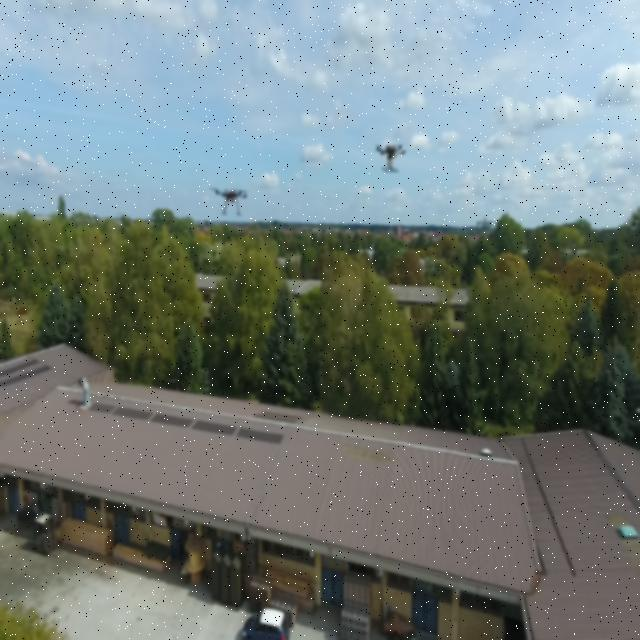UAV: (371, 134, 412, 179), (207, 182, 251, 218)
